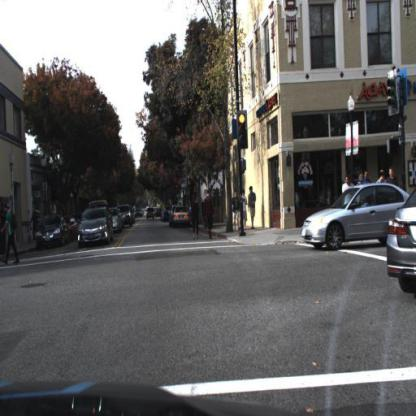car: (302, 182, 413, 252), (79, 205, 112, 254), (35, 210, 69, 253), (171, 204, 194, 231), (114, 211, 123, 231), (164, 206, 172, 224)
pedestrian: (1, 205, 22, 267), (193, 194, 202, 247), (247, 186, 257, 230), (386, 167, 400, 198), (359, 171, 373, 194), (341, 178, 351, 208), (341, 174, 351, 195), (377, 171, 387, 192), (377, 172, 387, 192), (356, 174, 367, 192), (346, 177, 356, 193), (33, 211, 38, 240), (344, 175, 352, 191), (381, 169, 386, 187)
trafficLight: (237, 110, 249, 149)
